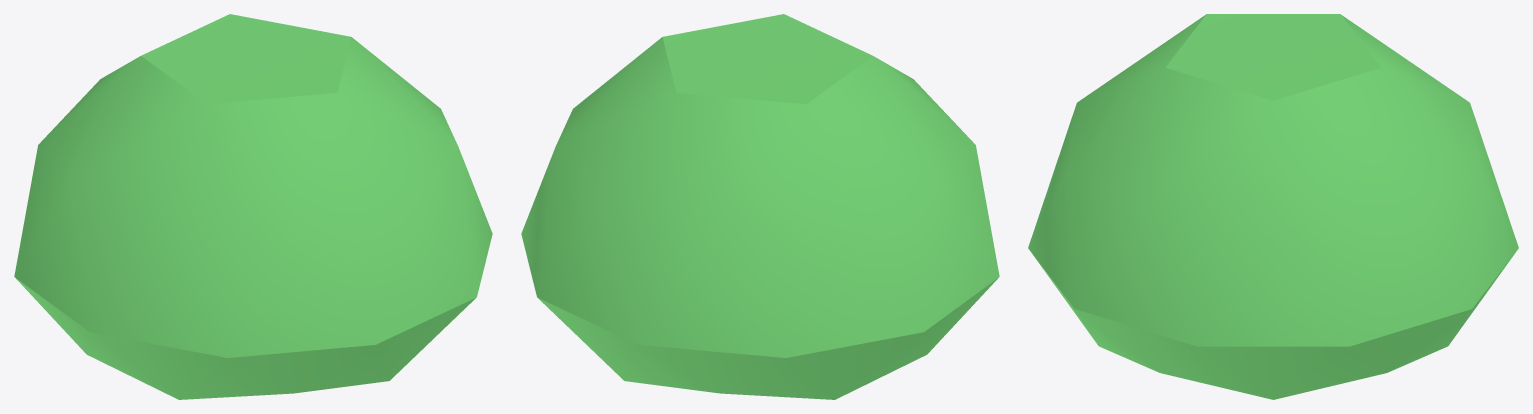
The model's file is tree_top.glb.
The picture shows the model from 3 angles, left to right: view 1: azimuth 30°, elevation 25°; view 2: azimuth 150°, elevation 25°; view 3: azimuth 270°, elevation 25°; orthographic projection.
Parts seen in each view (by area): view 1: TreeTop; view 2: TreeTop; view 3: TreeTop.
Boxes of the visible parts, x1=… form: TreeTop: x1=14, y1=14, x2=492, y2=399; TreeTop: x1=521, y1=14, x2=999, y2=399; TreeTop: x1=1028, y1=14, x2=1518, y2=399.
Size of the model in its own units: 6.17 by 4.24 by 6.48.
